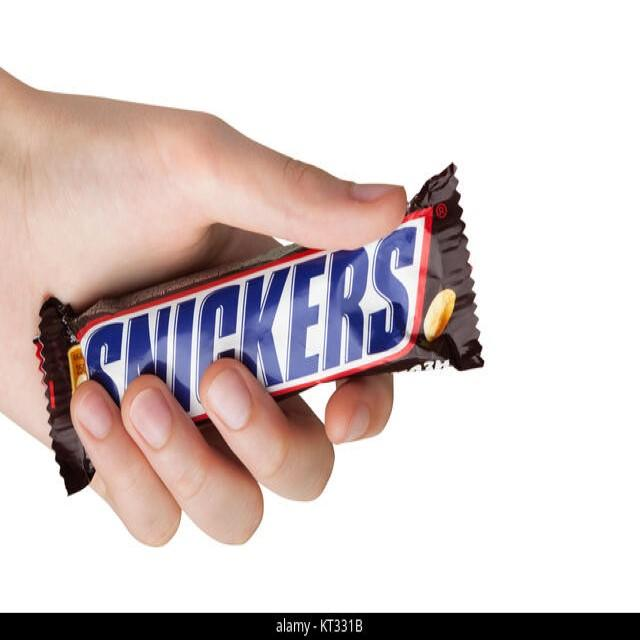snickers_chocolate: (57, 192, 468, 508)
